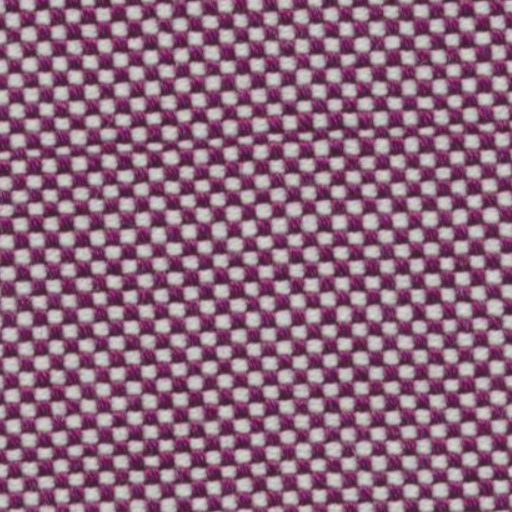TuoSha: (13, 114, 496, 170)
